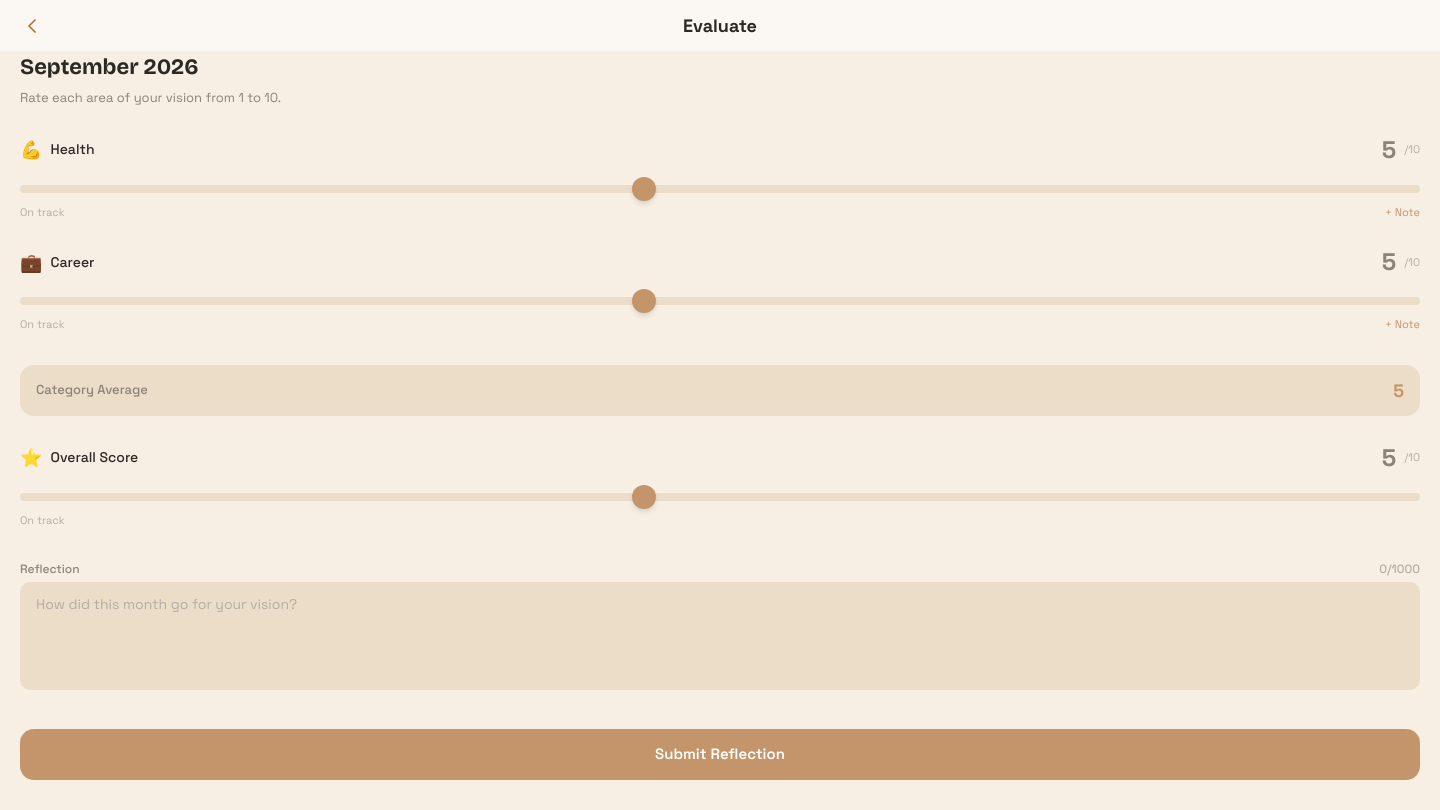
Test case: EvaluatePage › updates reflection char count as user types
This screenshot has width=1440, height=810.
Type "Good month" into the text box with test id "reflection-input".
click(720, 636); type("Good month")  # box [20, 582, 1420, 690]
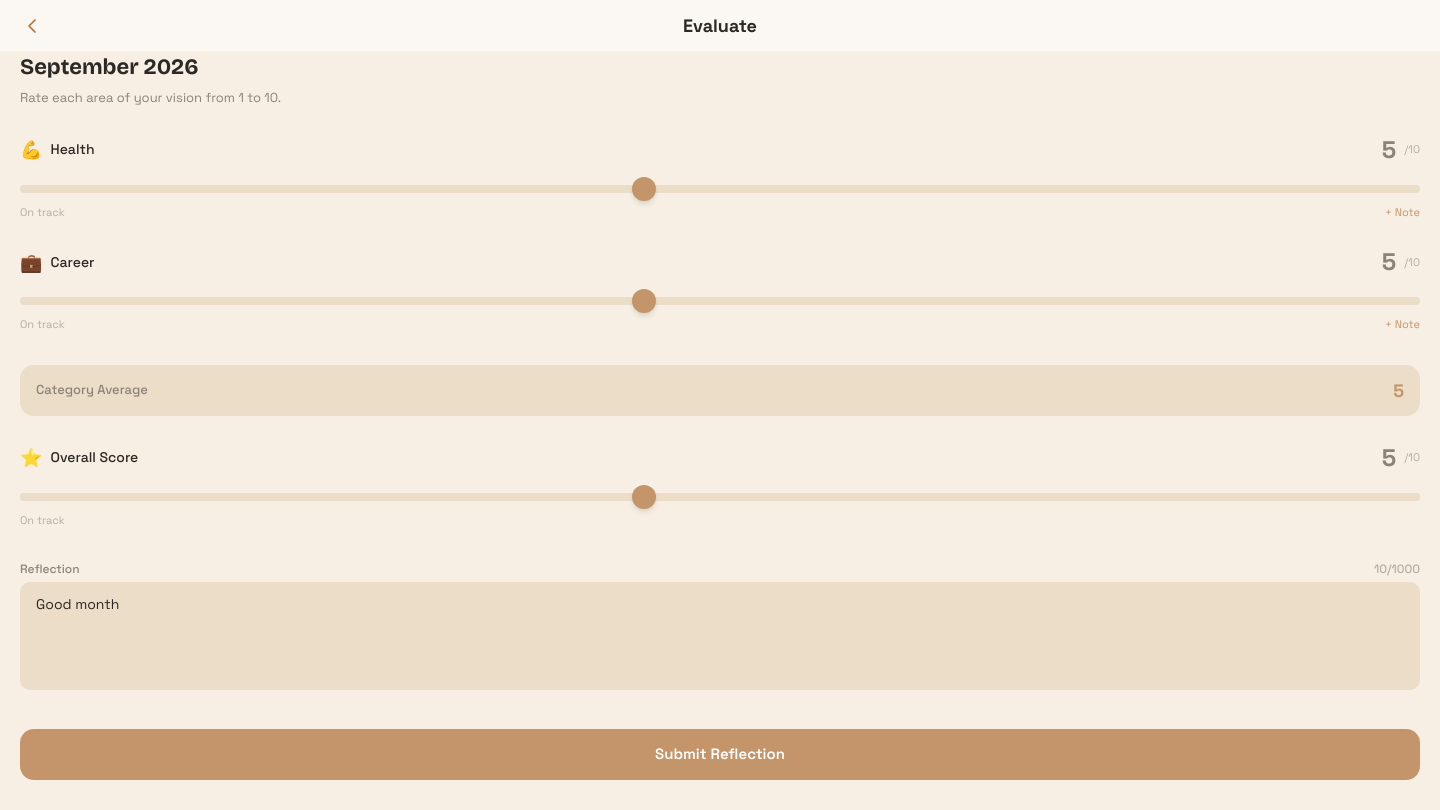
Result: the text "10/1000" is shown at [1374, 560, 1420, 578]
